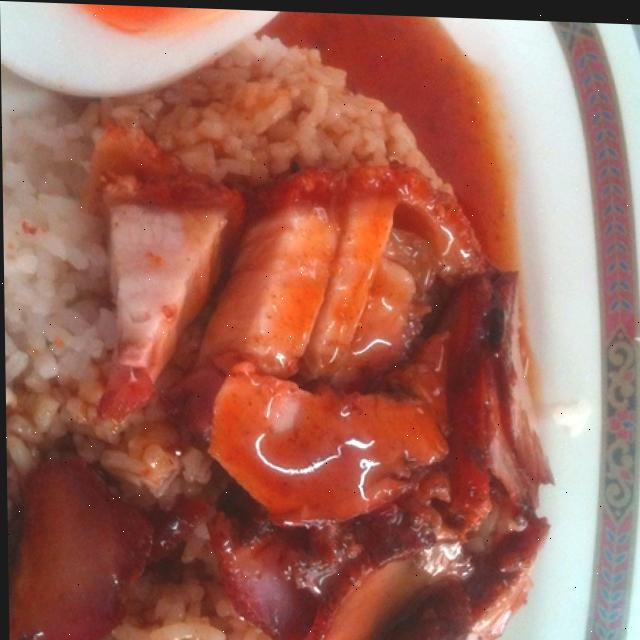猪肉菜式: (0, 21, 616, 640)
